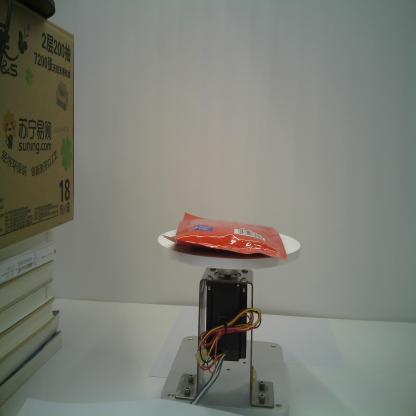Dried Fruit: (162, 212, 288, 261)
